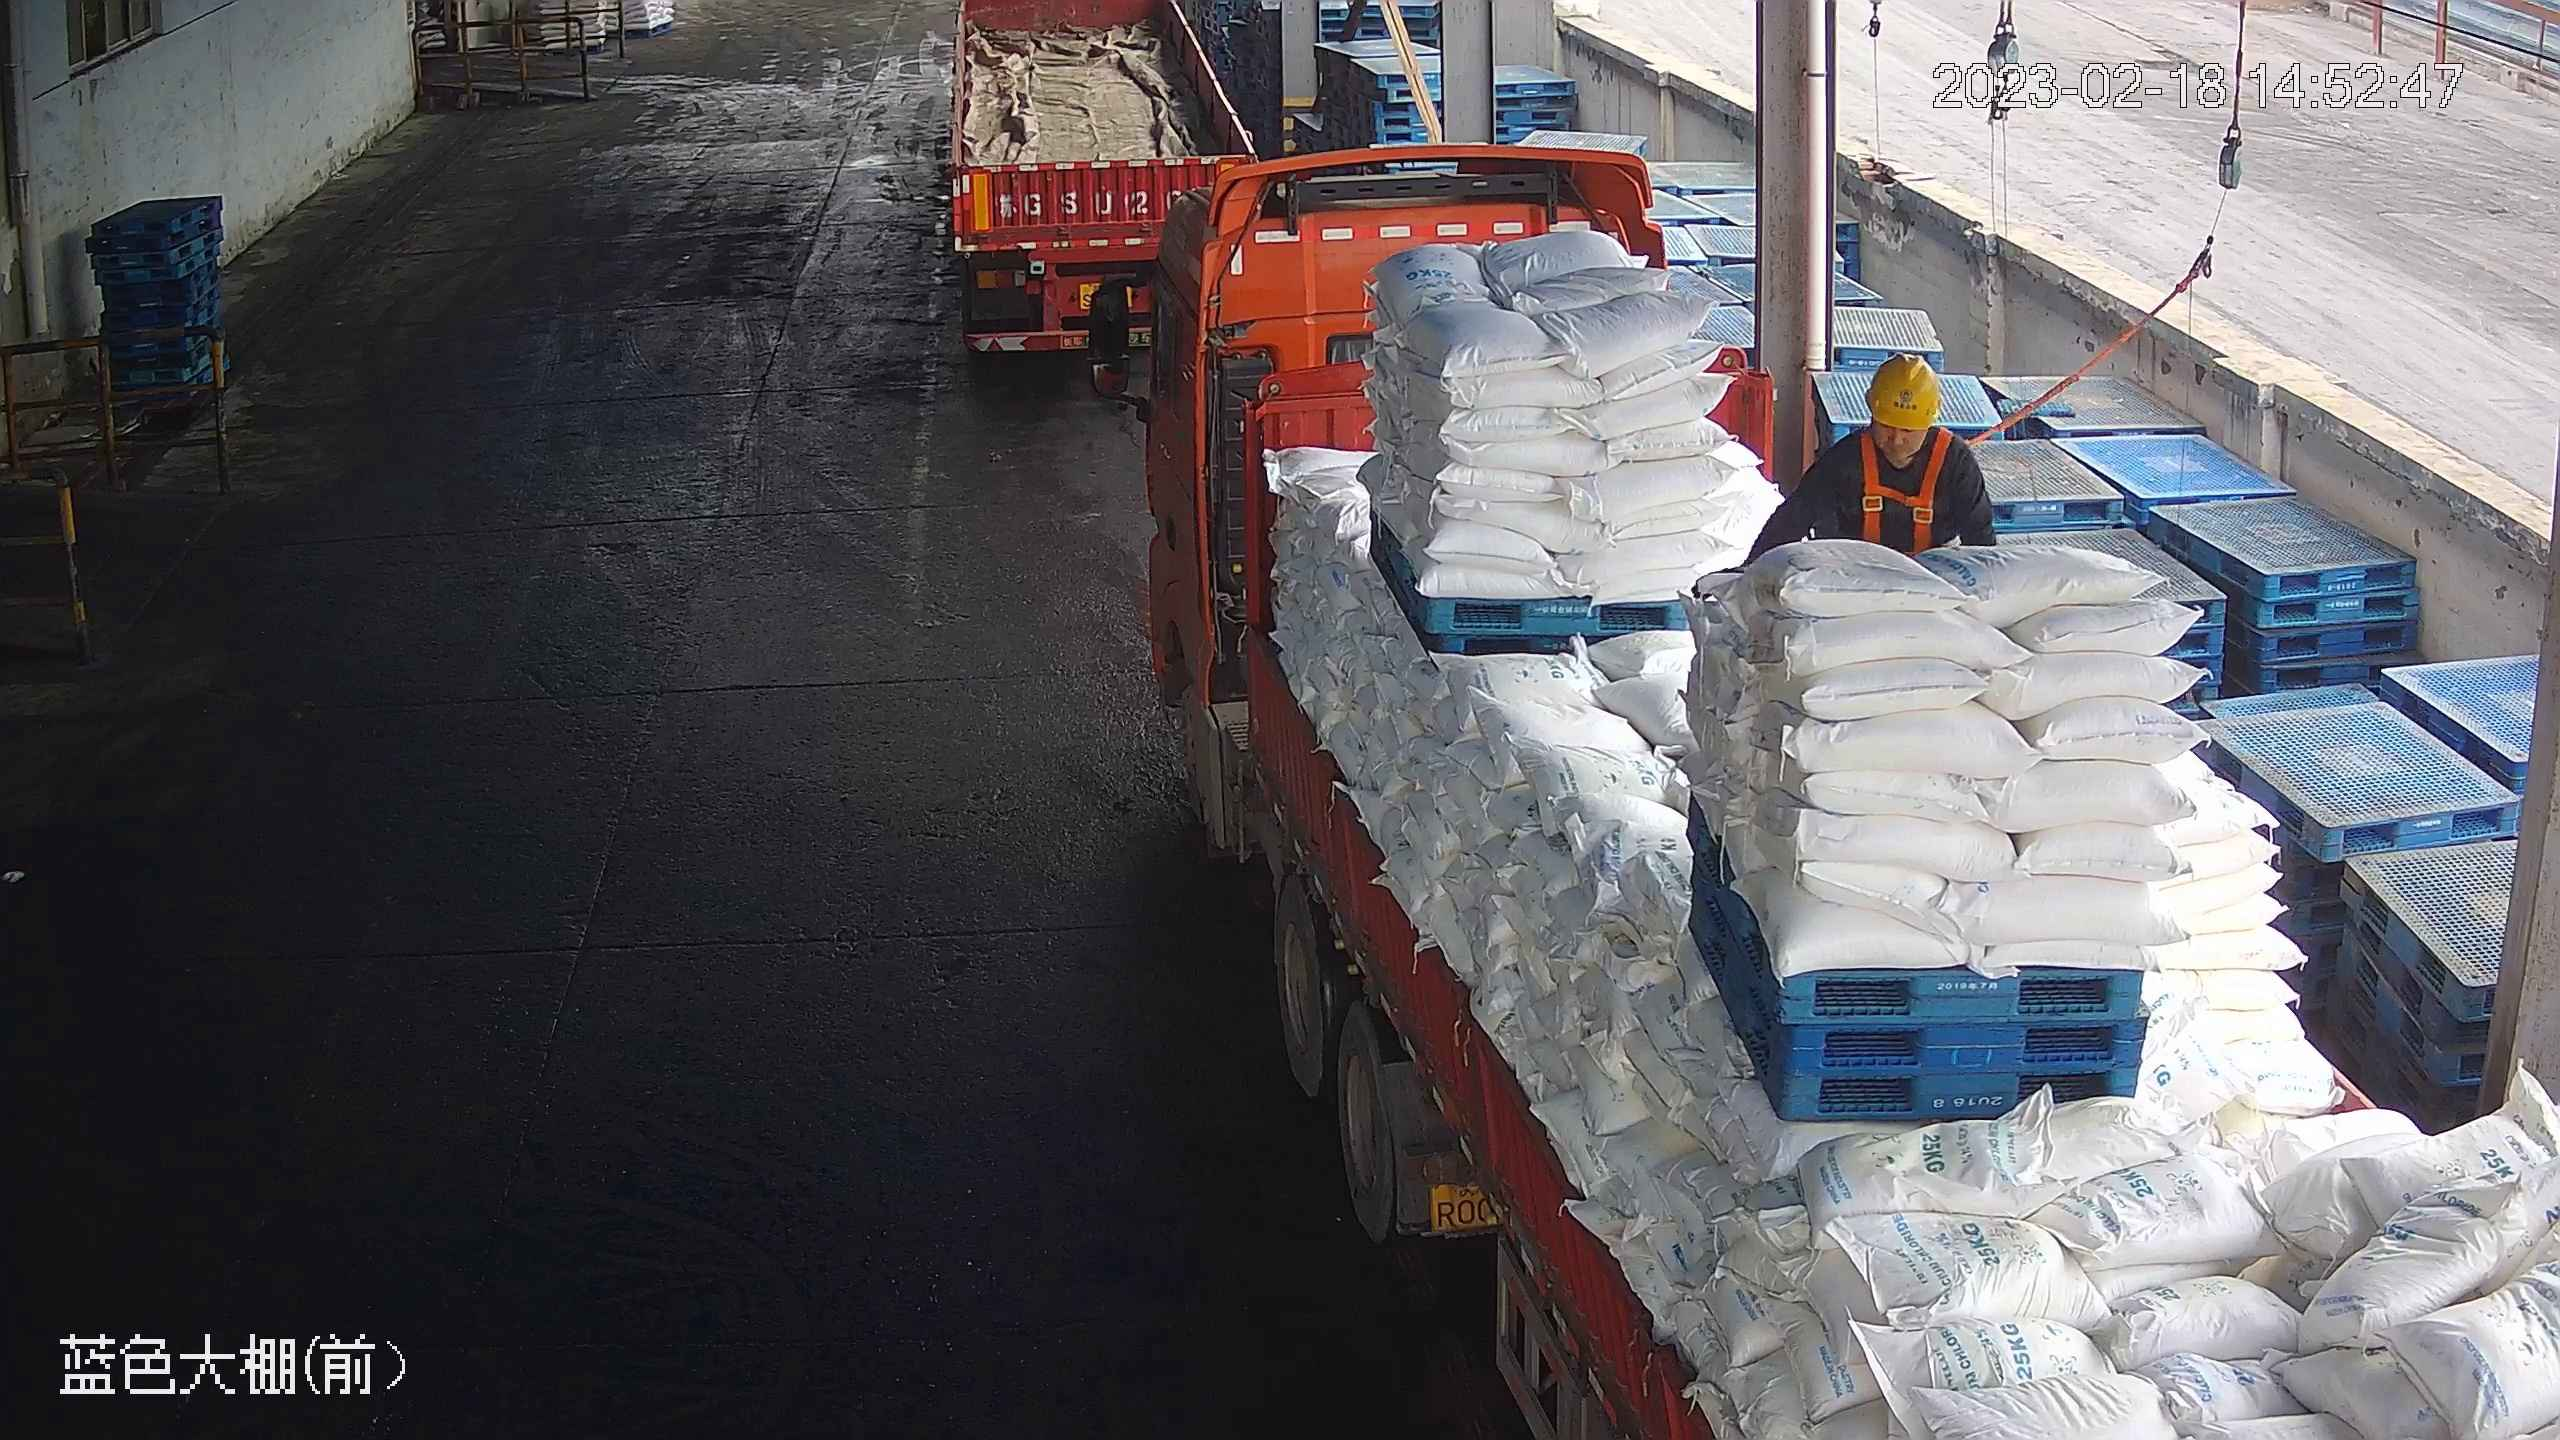belt: (1848, 427, 1957, 556)
head: (1807, 348, 1989, 507)
helmet: (1865, 350, 1945, 434)
truck: (1075, 117, 2554, 1440), (903, 1, 1266, 361)
